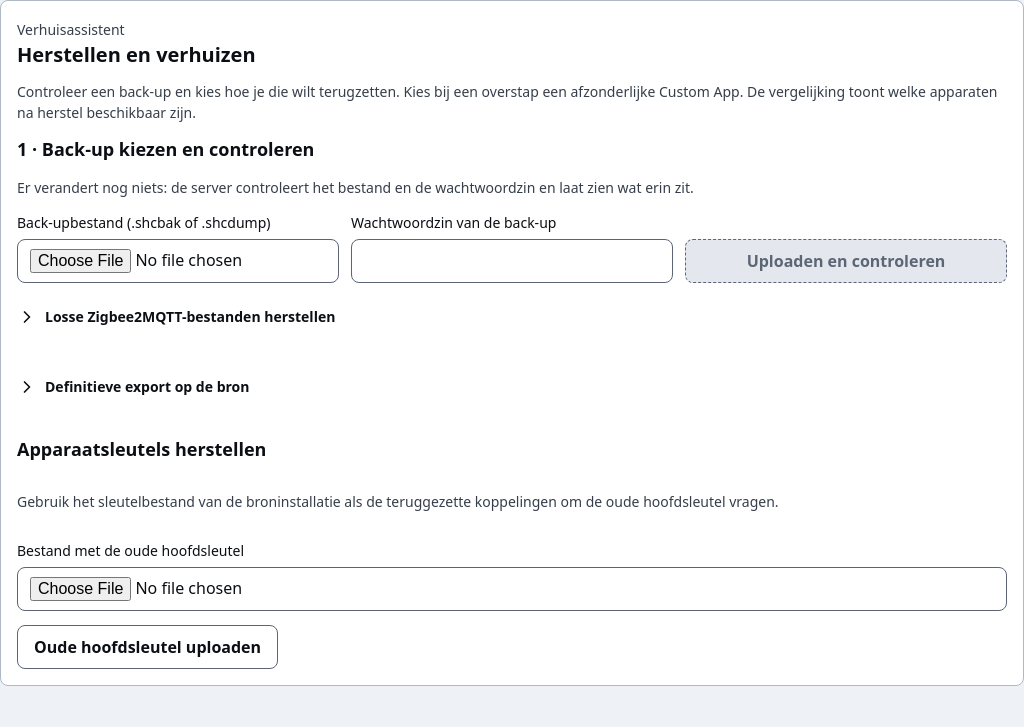
it: biedt de gepubliceerde eindexport na het heropenen van het scherm aan
The image size is (1024, 727).
Click the heading "Definitieve export op de bron": [147, 386] box [45,377,250,396]
(page scrolled)
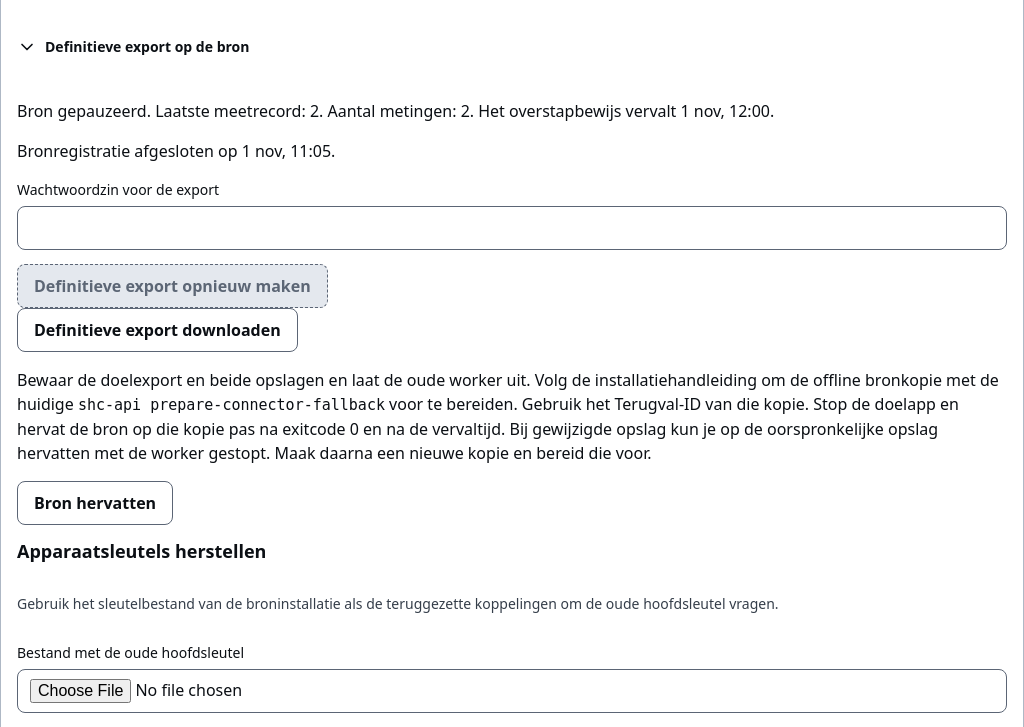
Now the text "shc-api prepare-connector-fallback" shows "laat de oude worker uit", box [17,369,999,415]
Now the text "shc-api prepare-connector-fallback" shows "op die kopie pas na exitcode 0", box [17,393,959,464]
